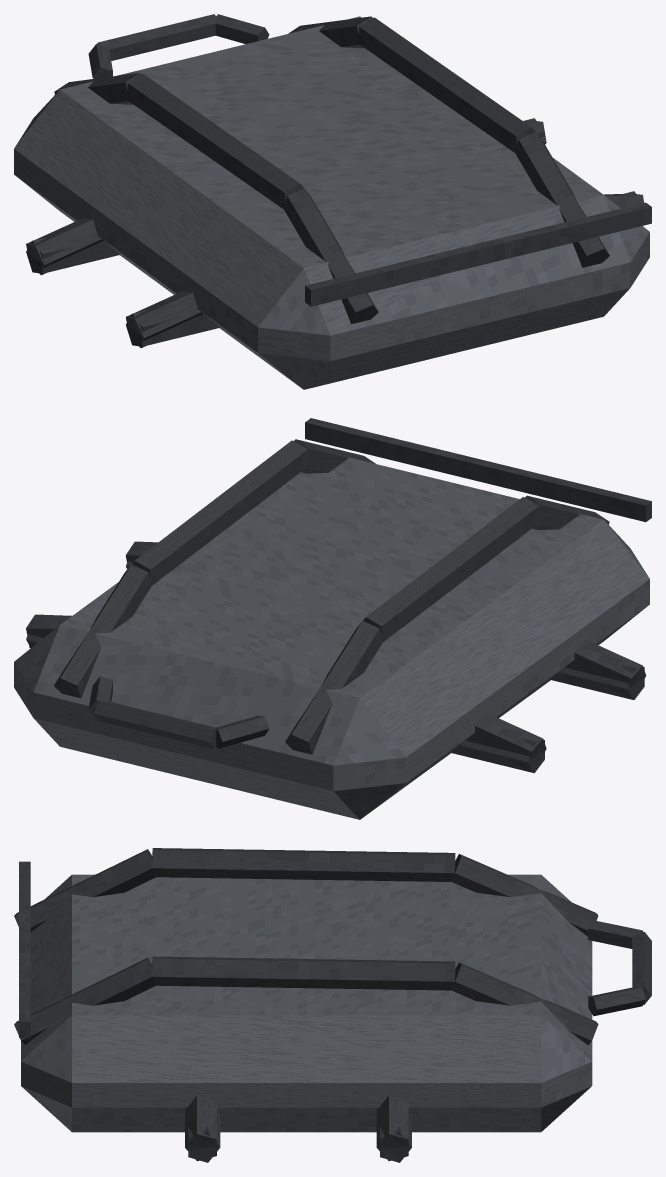
The model's file is leg_bag.glb.
The picture shows the model from 3 angles, top to bottom: view 1: azimuth 30°, elevation 25°; view 2: azimuth 150°, elevation 25°; view 3: azimuth 270°, elevation 25°; orthographic projection. The views are drawn at different scales.
Parts seen in each view (by area): view 1: block_bag shell, block_webbing strap 1 (×2), block_zipper, block_webbing strap 2 (×2), block_adjustable thigh strap 0 (×2), block_adjustable thigh strap 1 (×2), block_carry handle 1, block_webbing strap 0 (×2), block_carry handle 2, block_carry handle 0; view 2: block_bag shell, block_webbing strap 1 (×2), block_zipper, block_webbing strap 0 (×2), block_adjustable thigh strap 0 (×2), block_adjustable thigh strap 1 (×2), block_carry handle 1, block_webbing strap 2 (×2), block_carry handle 0, block_adjustable thigh strap 2, block_carry handle 2; view 3: block_bag shell, block_webbing strap 1 (×2), block_webbing strap 0 (×2), block_webbing strap 2 (×2), block_adjustable thigh strap 2 (×2), block_zipper, block_adjustable thigh strap 1 (×2), block_carry handle 2, block_carry handle 1, block_carry handle 0.
Part boxes in pixels (x1=…): block_bag shell: x1=14, y1=16, x2=649, y2=389; block_webbing strap 1 (×2): x1=127, y1=17, x2=535, y2=210; block_zipper: x1=305, y1=202, x2=651, y2=306; block_webbing strap 2 (×2): x1=284, y1=132, x2=609, y2=324; block_adjustable thigh strap 0 (×2): x1=26, y1=218, x2=203, y2=347; block_adjustable thigh strap 1 (×2): x1=26, y1=118, x2=642, y2=346; block_carry handle 1: x1=97, y1=14, x2=215, y2=60; block_webbing strap 0 (×2): x1=54, y1=16, x2=372, y2=104; block_carry handle 2: x1=215, y1=14, x2=269, y2=44; block_carry handle 0: x1=88, y1=44, x2=112, y2=78; block_bag shell: x1=14, y1=457, x2=649, y2=819; block_webbing strap 1 (×2): x1=131, y1=440, x2=538, y2=642; block_zipper: x1=305, y1=418, x2=651, y2=522; block_webbing strap 0 (×2): x1=54, y1=564, x2=382, y2=754; block_adjustable thigh strap 0 (×2): x1=465, y1=639, x2=646, y2=769; block_adjustable thigh strap 1 (×2): x1=26, y1=545, x2=644, y2=773; block_carry handle 1: x1=94, y1=701, x2=216, y2=748; block_webbing strap 2 (×2): x1=294, y1=439, x2=609, y2=529; block_carry handle 0: x1=216, y1=715, x2=269, y2=748; block_adjustable thigh strap 2: x1=26, y1=614, x2=71, y2=648; block_carry handle 2: x1=88, y1=676, x2=112, y2=719; block_bag shell: x1=21, y1=874, x2=592, y2=1132; block_webbing strap 1 (×2): x1=152, y1=848, x2=455, y2=990; block_webbing strap 0 (×2): x1=451, y1=854, x2=598, y2=1045; block_webbing strap 2 (×2): x1=14, y1=849, x2=155, y2=1044; block_adjustable thigh strap 2 (×2): x1=185, y1=1095, x2=408, y2=1161; block_zipper: x1=19, y1=861, x2=30, y2=1037; block_adjustable thigh strap 1 (×2): x1=188, y1=1113, x2=411, y2=1162; block_carry handle 2: x1=588, y1=987, x2=645, y2=1015; block_carry handle 1: x1=632, y1=931, x2=651, y2=1004; block_carry handle 0: x1=588, y1=920, x2=642, y2=948.
Size of the model in its own units: 0.2047 by 0.0639 by 0.2315.
1 material, 1 textured.
